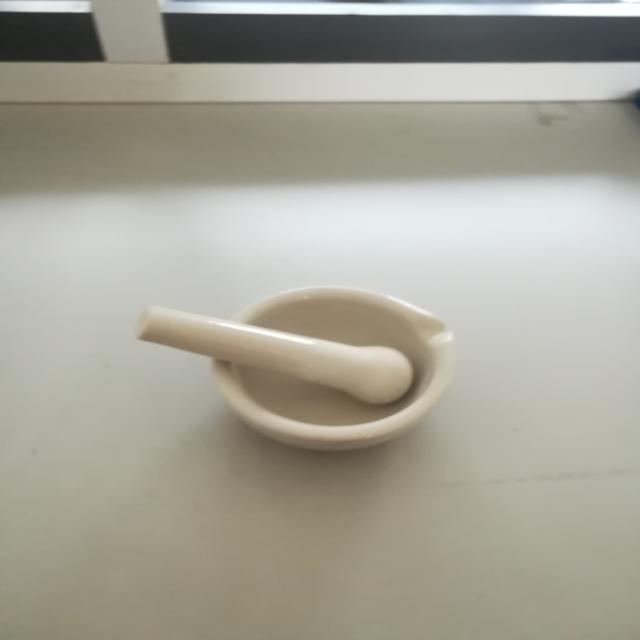Porcelain_Mortar Pestle: (108, 244, 476, 498)
